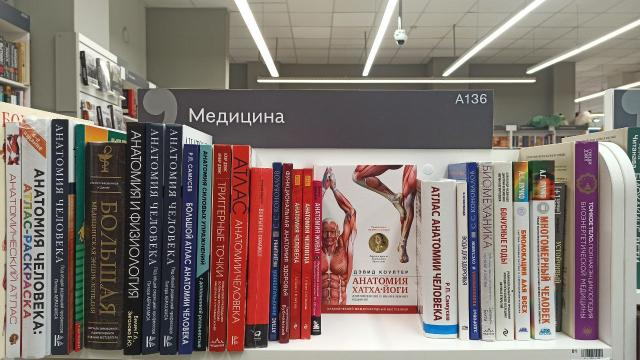book-s-spine: (85, 143, 125, 349), (22, 119, 47, 358), (421, 180, 457, 338), (160, 124, 183, 355), (124, 122, 146, 355), (142, 123, 163, 355), (227, 146, 250, 351), (246, 168, 272, 348), (209, 144, 231, 352), (575, 142, 598, 340), (178, 144, 198, 354), (533, 161, 555, 339), (52, 120, 68, 355), (494, 162, 514, 340), (195, 145, 212, 351), (6, 122, 20, 358), (479, 162, 495, 341), (514, 162, 530, 340), (280, 164, 293, 343), (269, 163, 282, 341), (290, 169, 303, 339), (75, 124, 84, 352), (457, 183, 469, 340), (301, 169, 312, 339), (311, 181, 322, 335), (469, 162, 478, 340), (555, 183, 565, 332)
